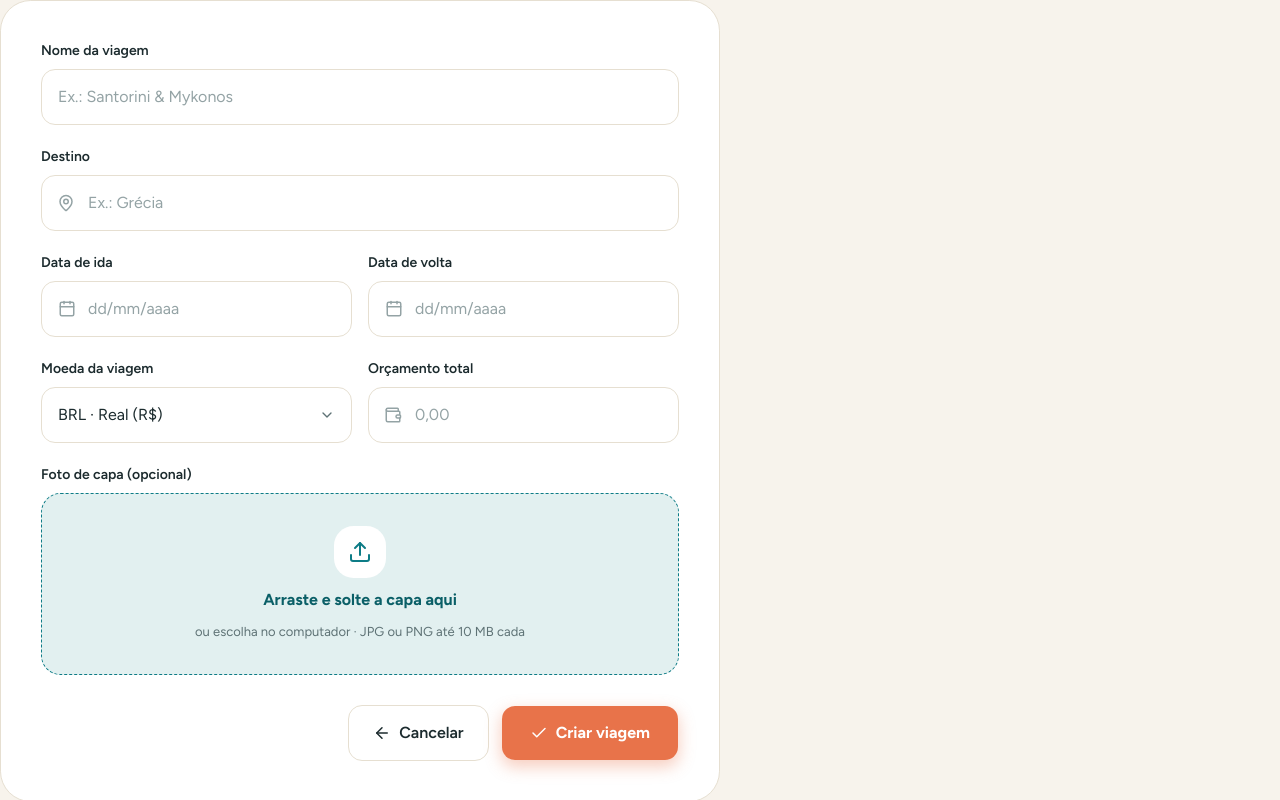
Scenario: NewTripForm › clears the return date when the departure moves after it
Click the button named "Data de ida": (134, 308) [41, 281, 352, 337]
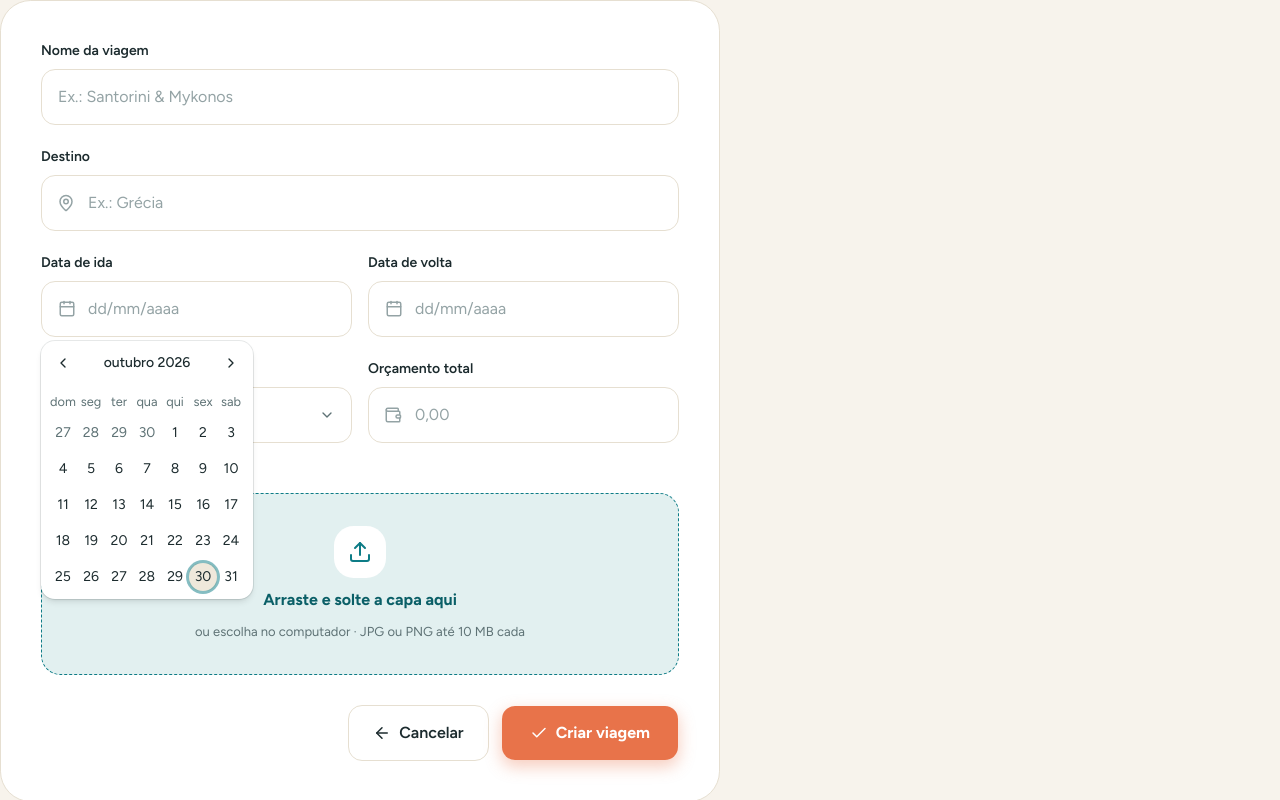
Click the button named "10 de": (231, 469) [217, 455, 245, 483]
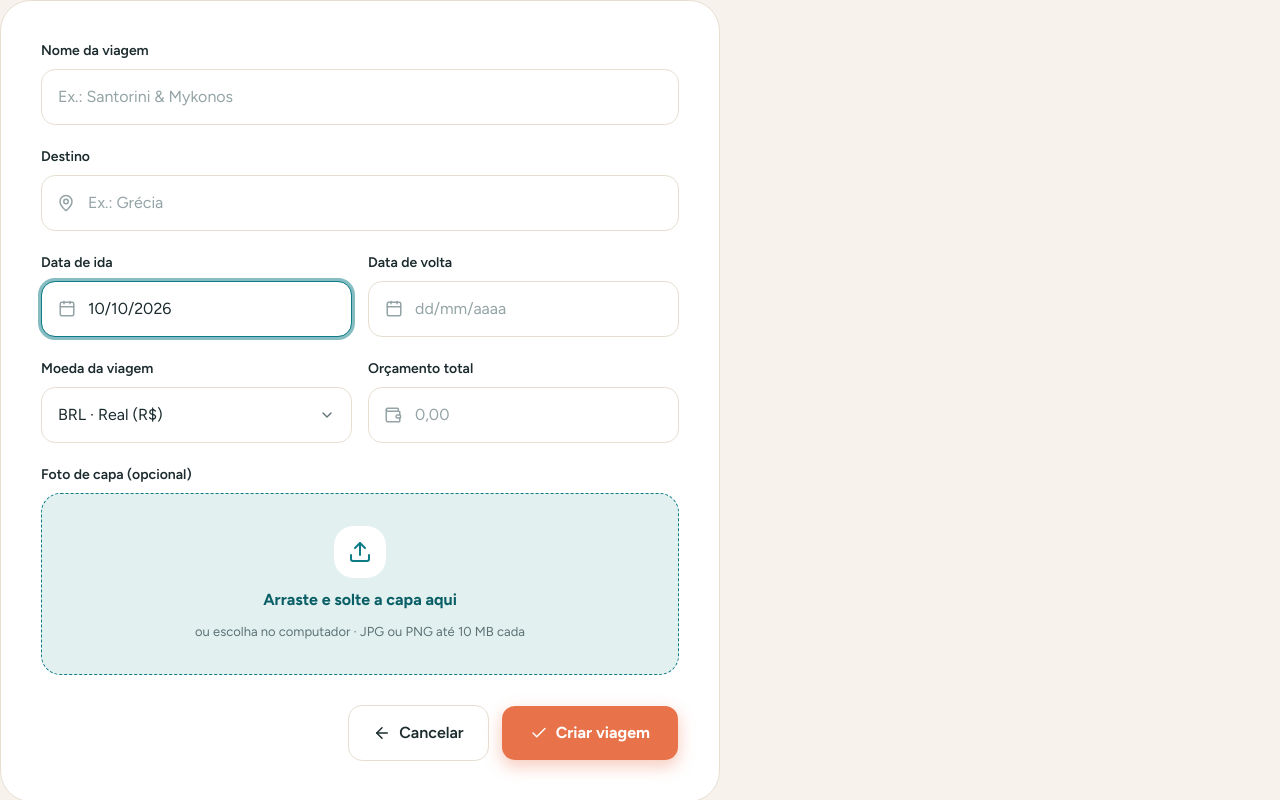
Click the button named "Data de volta": (461, 308) [368, 281, 679, 337]
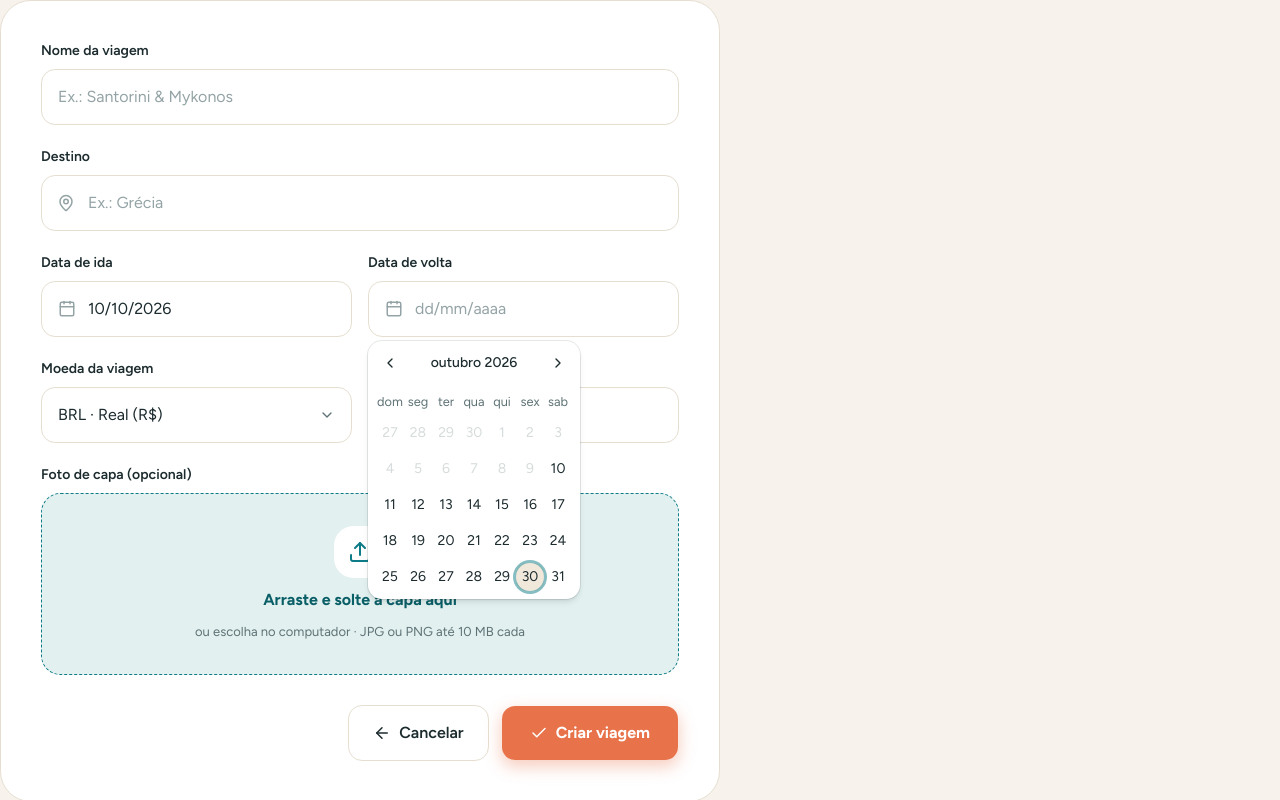
Click the button named "12 de": (418, 505) [404, 491, 432, 519]
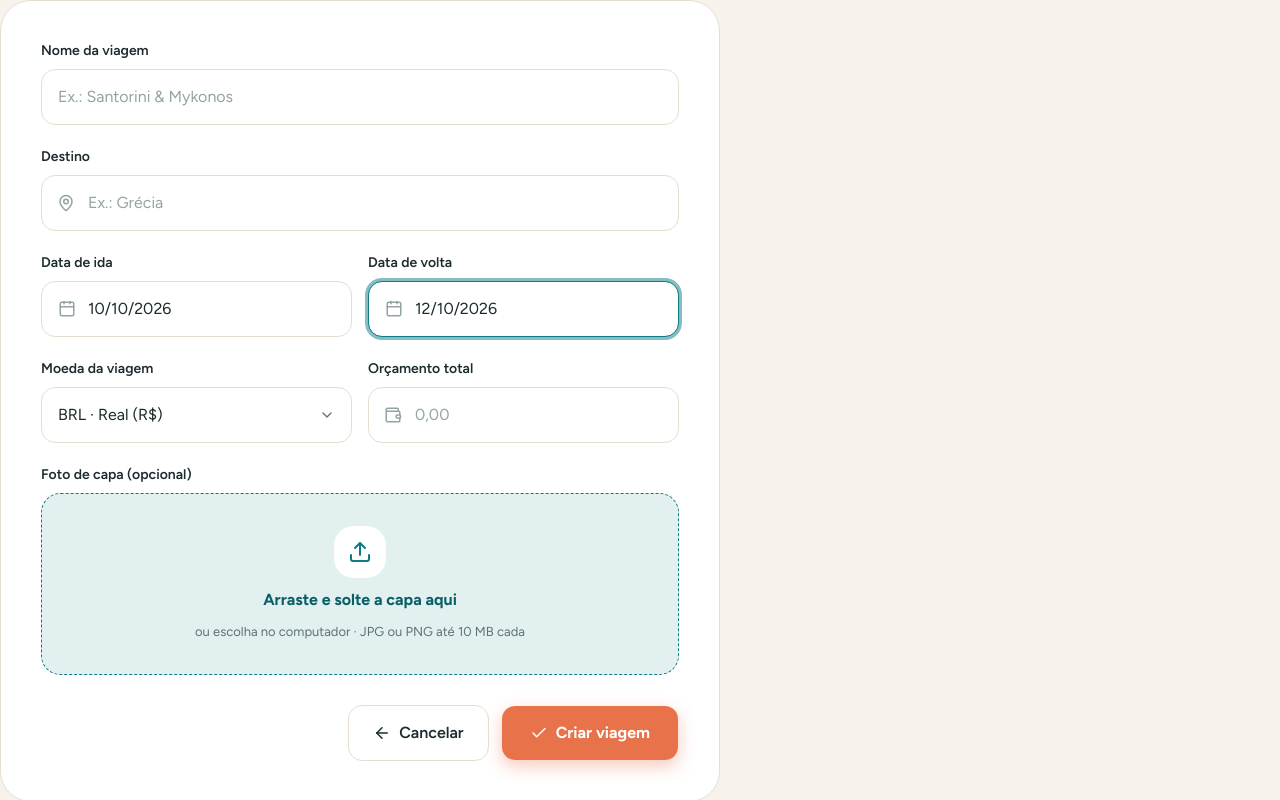
expect the button named "Data de volta" no longer shows "dd/mm/aaaa": met, box [368, 281, 679, 337]
Click the button named "Data de ida": (130, 308) [41, 281, 352, 337]
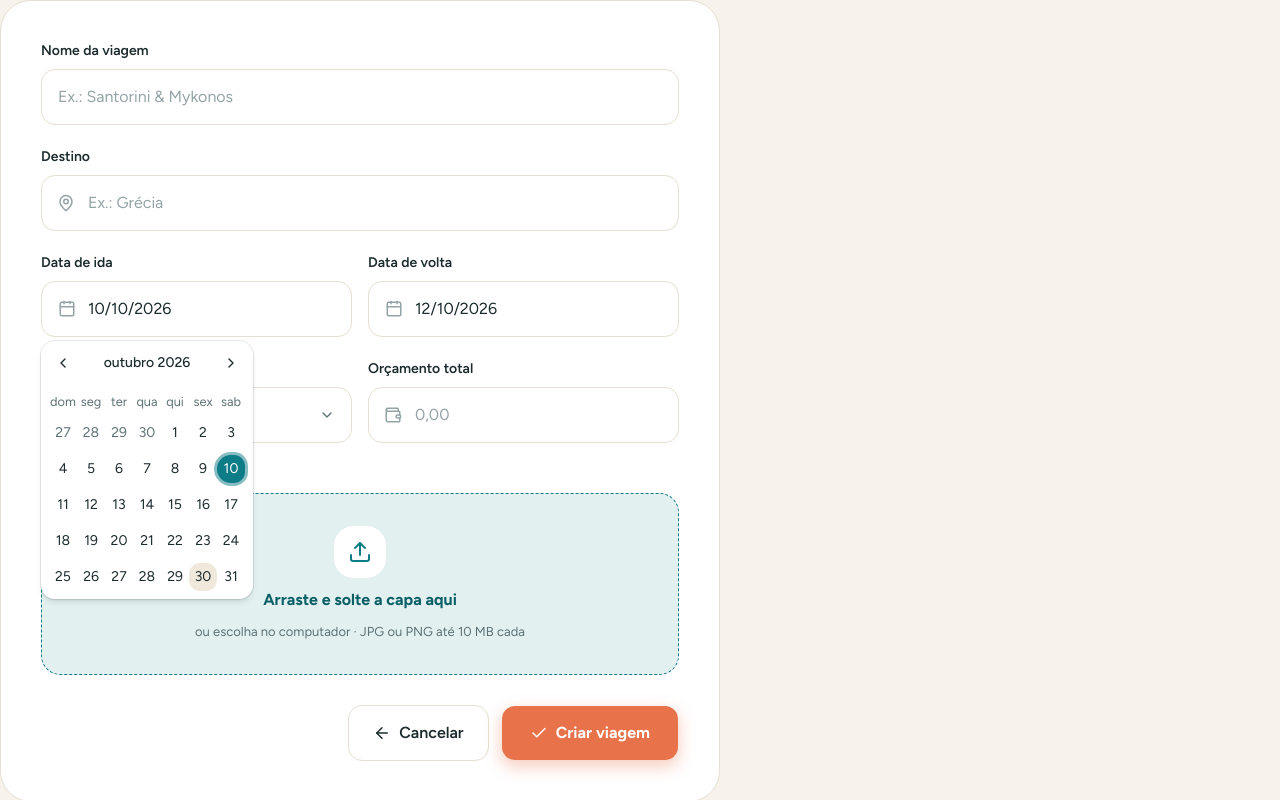
Click the button named "20 de": (119, 541) [105, 527, 133, 555]
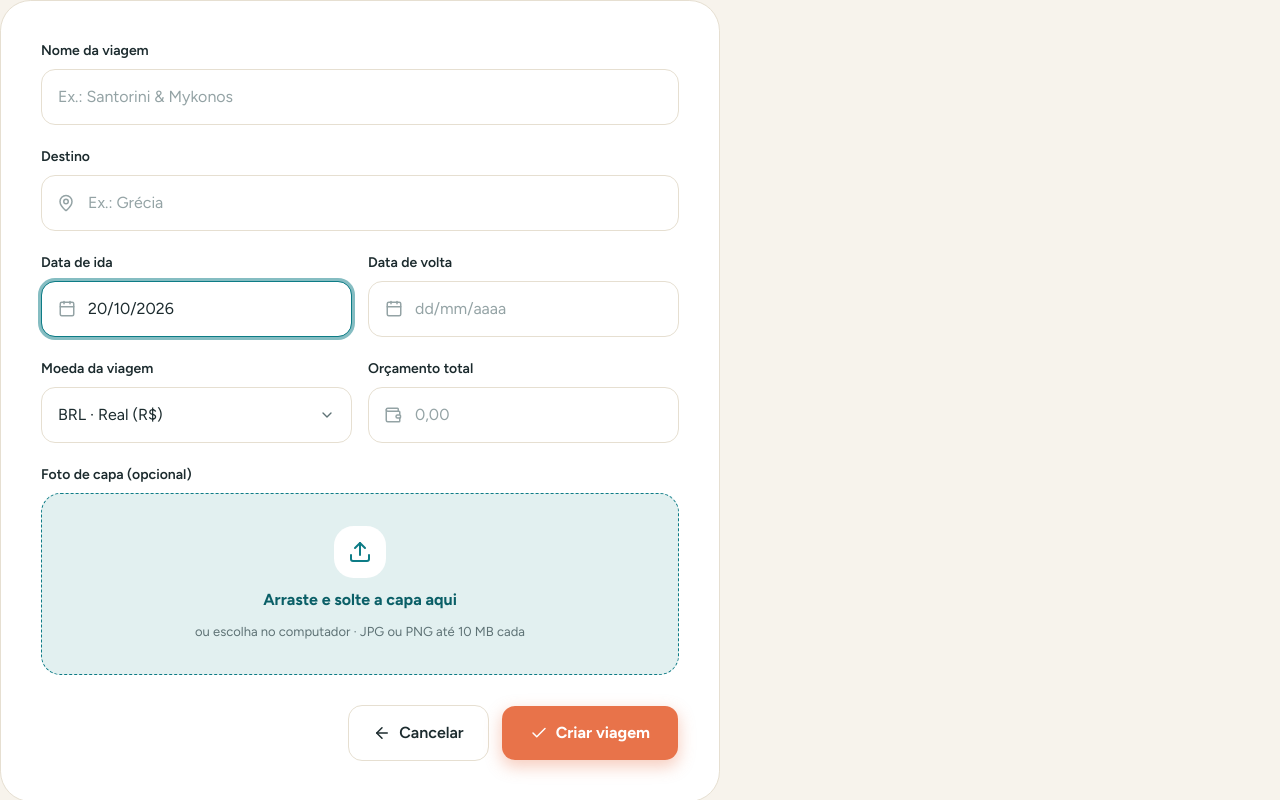
expect the button named "Data de volta" reads "dd/mm/aaaa": met, box [368, 281, 679, 337]
